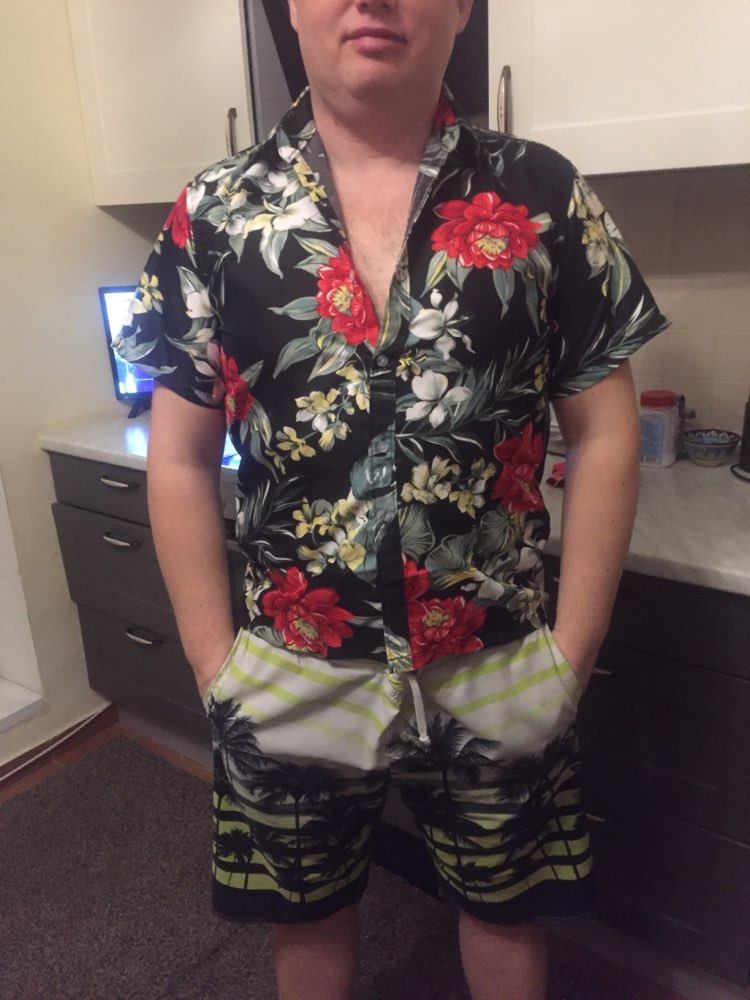shirts: (124, 88, 672, 664)
